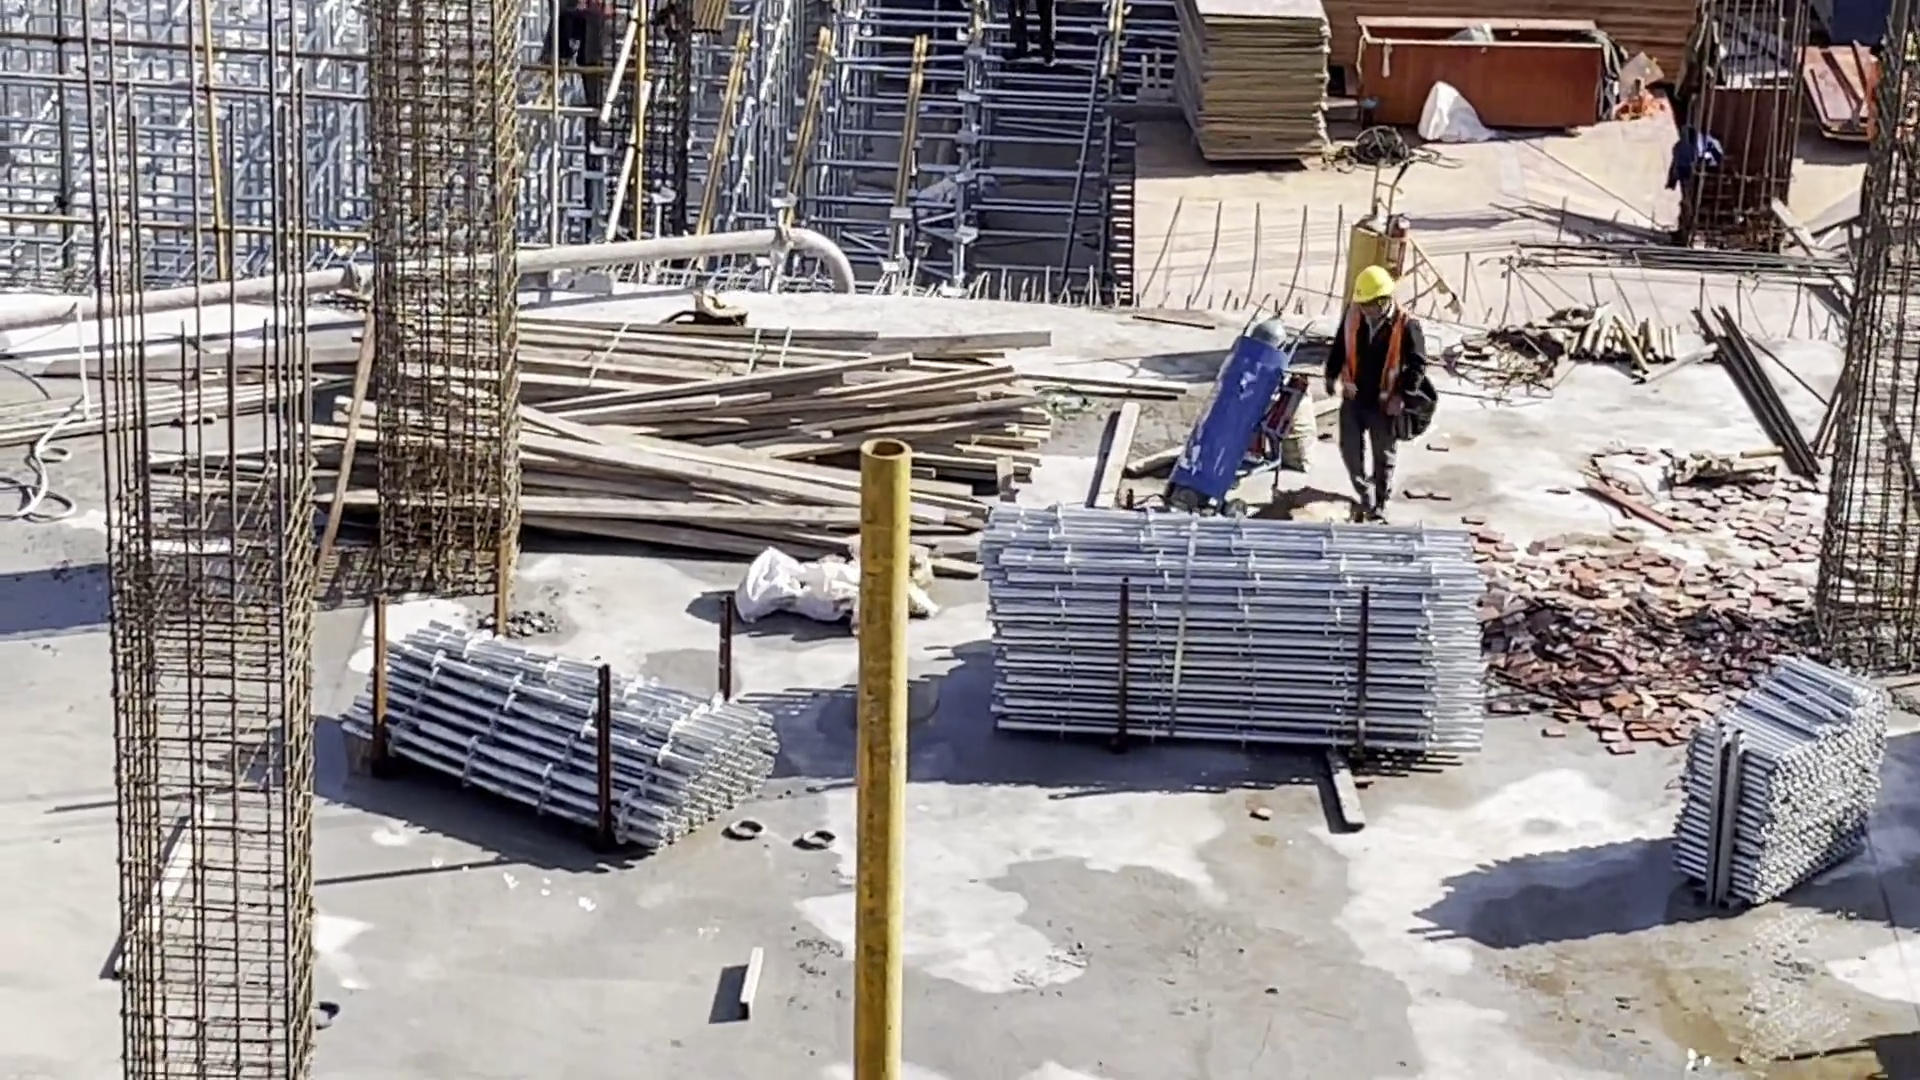board: (1170, 1, 1333, 157), (1801, 35, 1885, 143)
helmet: (1343, 261, 1397, 310)
person: (1333, 258, 1435, 508)
rebar: (1690, 302, 1833, 499), (1514, 226, 1866, 279)
scaffold: (983, 504, 1488, 771), (334, 622, 781, 858), (1671, 656, 1890, 908)
vest: (1337, 310, 1411, 420)
wood: (516, 315, 1046, 561)
